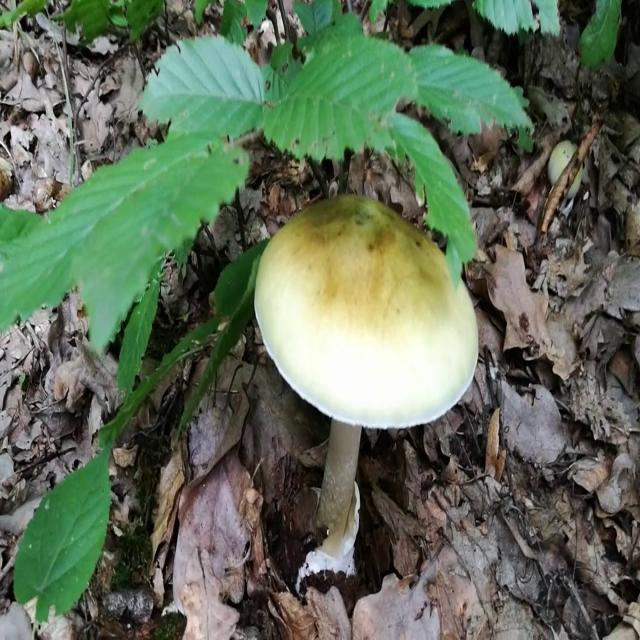death-cap: (253, 195, 480, 574)
